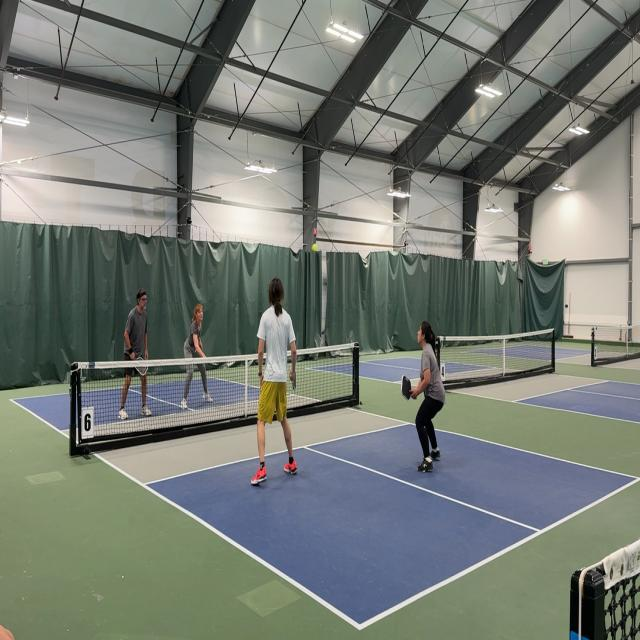ball: (311, 241, 318, 254)
